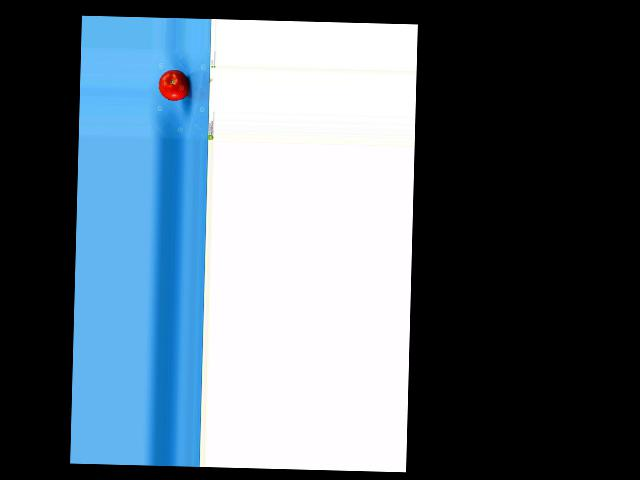tomato: (158, 68, 189, 100)
